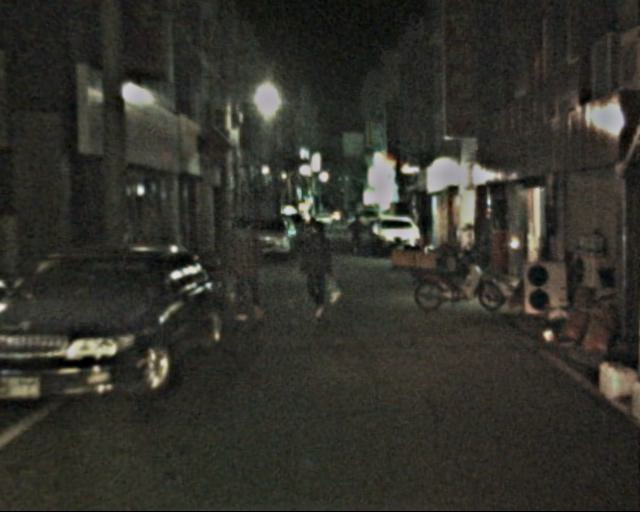person: (222, 214, 266, 323), (294, 216, 337, 317), (347, 212, 365, 252)
